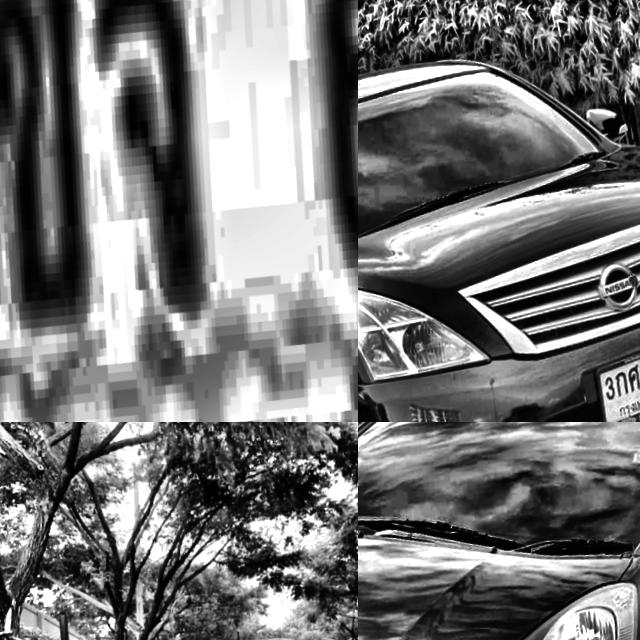license-plate: (0, 0, 358, 422), (593, 324, 640, 422)
